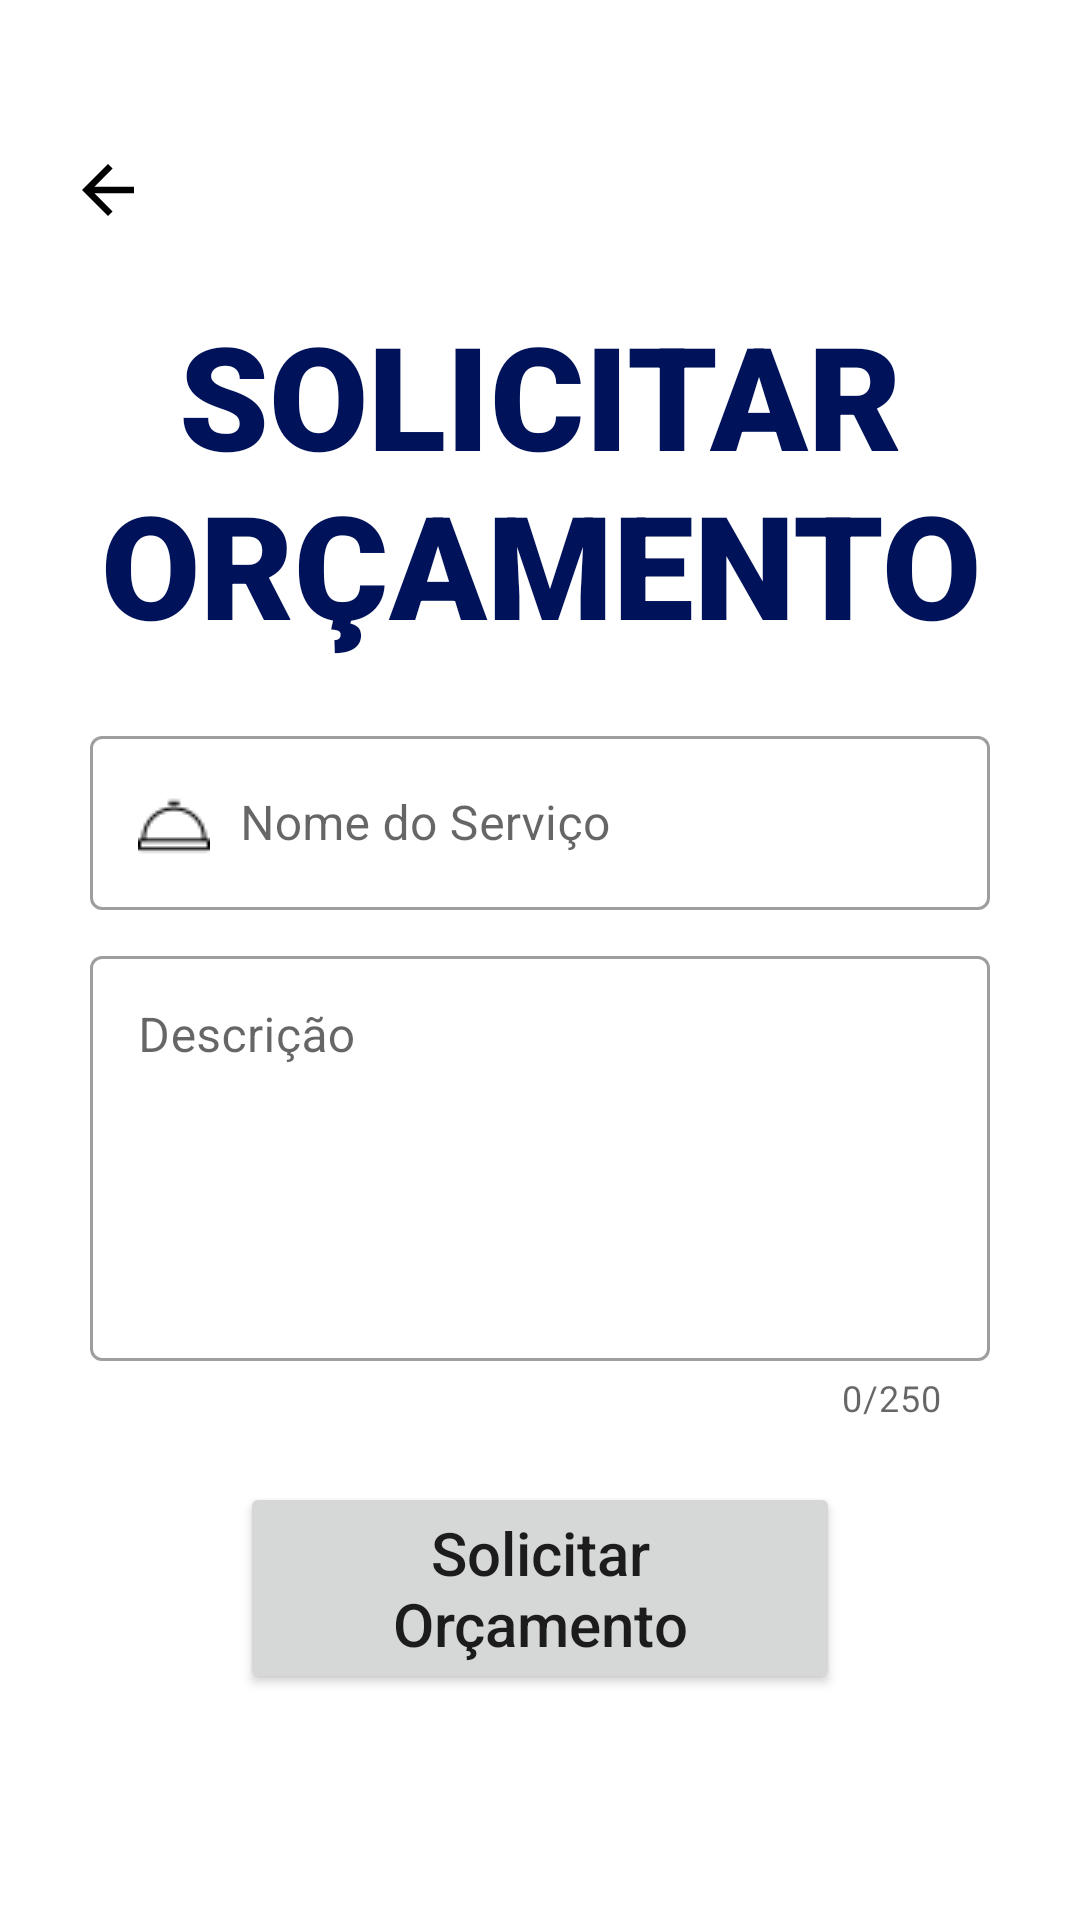

Icon bounding boxes for this 1080×1920 phone screenshot, format (x1, y1, x2, y2):
Voltar: (82, 164, 134, 216)
